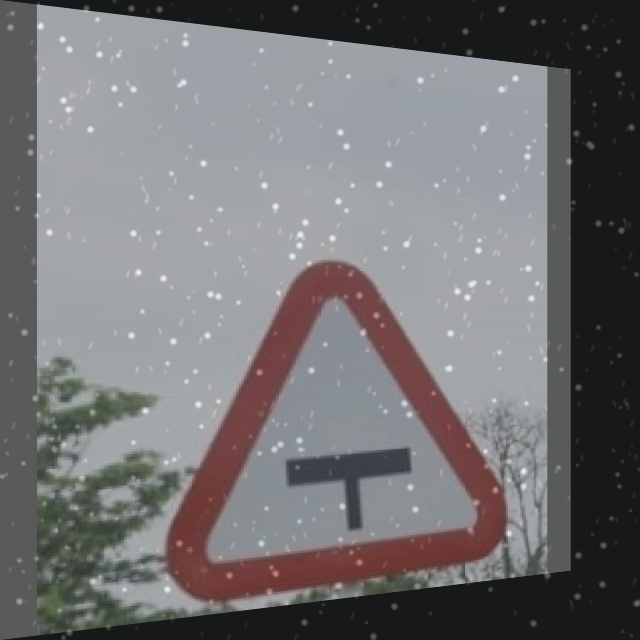T_Intersection: (174, 258, 505, 591)
